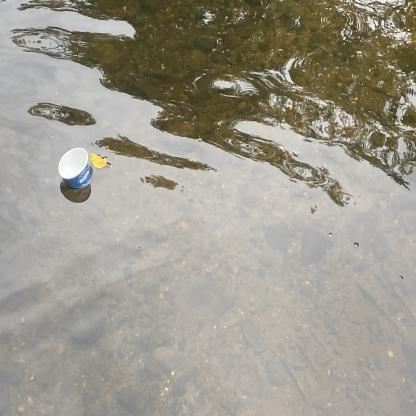trash: (56, 145, 96, 193)
